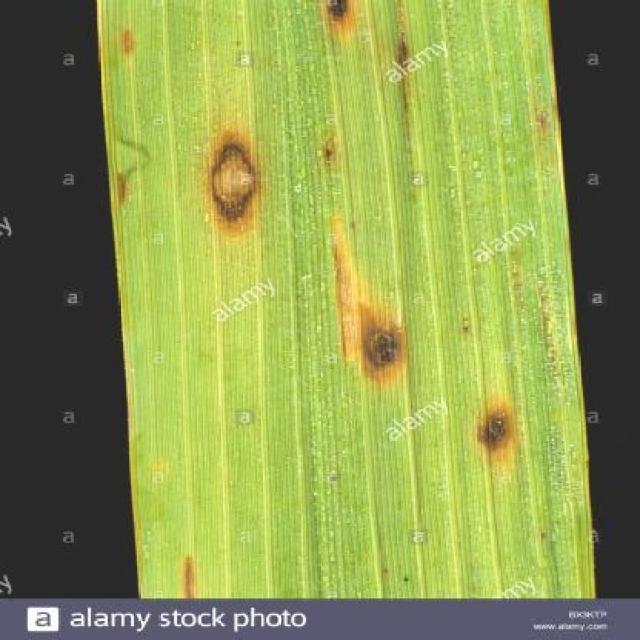Bacterial_Leaf_Blight: (190, 123, 282, 240), (307, 0, 361, 38)
Leaf_Blast: (319, 267, 421, 388), (467, 393, 522, 485), (388, 32, 432, 112), (172, 551, 216, 598), (108, 169, 140, 214), (114, 22, 144, 63), (388, 0, 423, 34), (318, 131, 339, 171), (531, 107, 555, 141), (458, 312, 474, 338)
